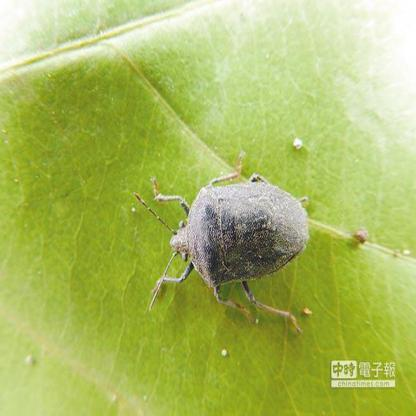rice-bug: (141, 152, 313, 326)
